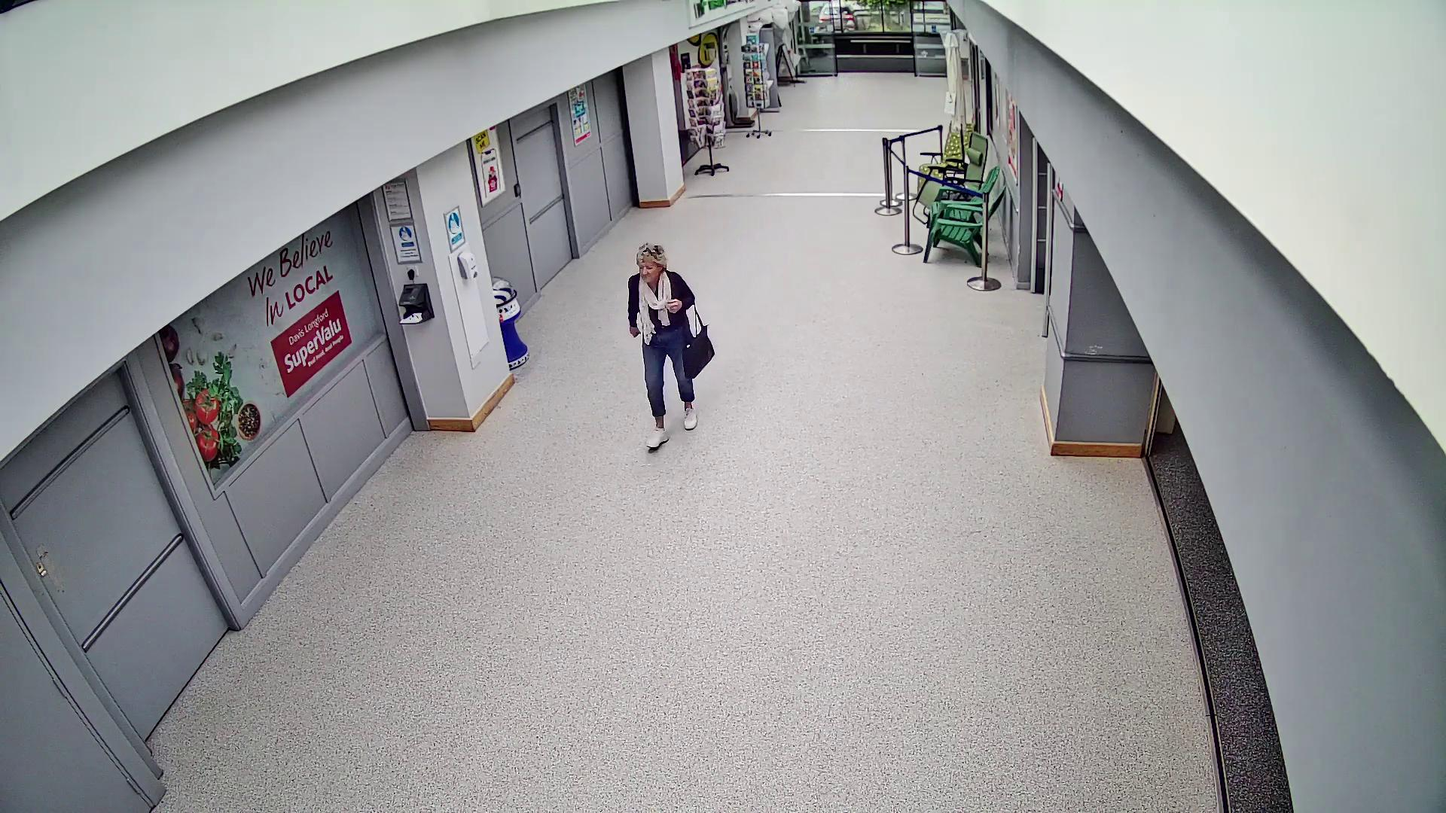backpack-or-handbag: (682, 323, 715, 378)
person: (629, 242, 698, 451)
person-with-backpack-handbag: (629, 243, 715, 449)
